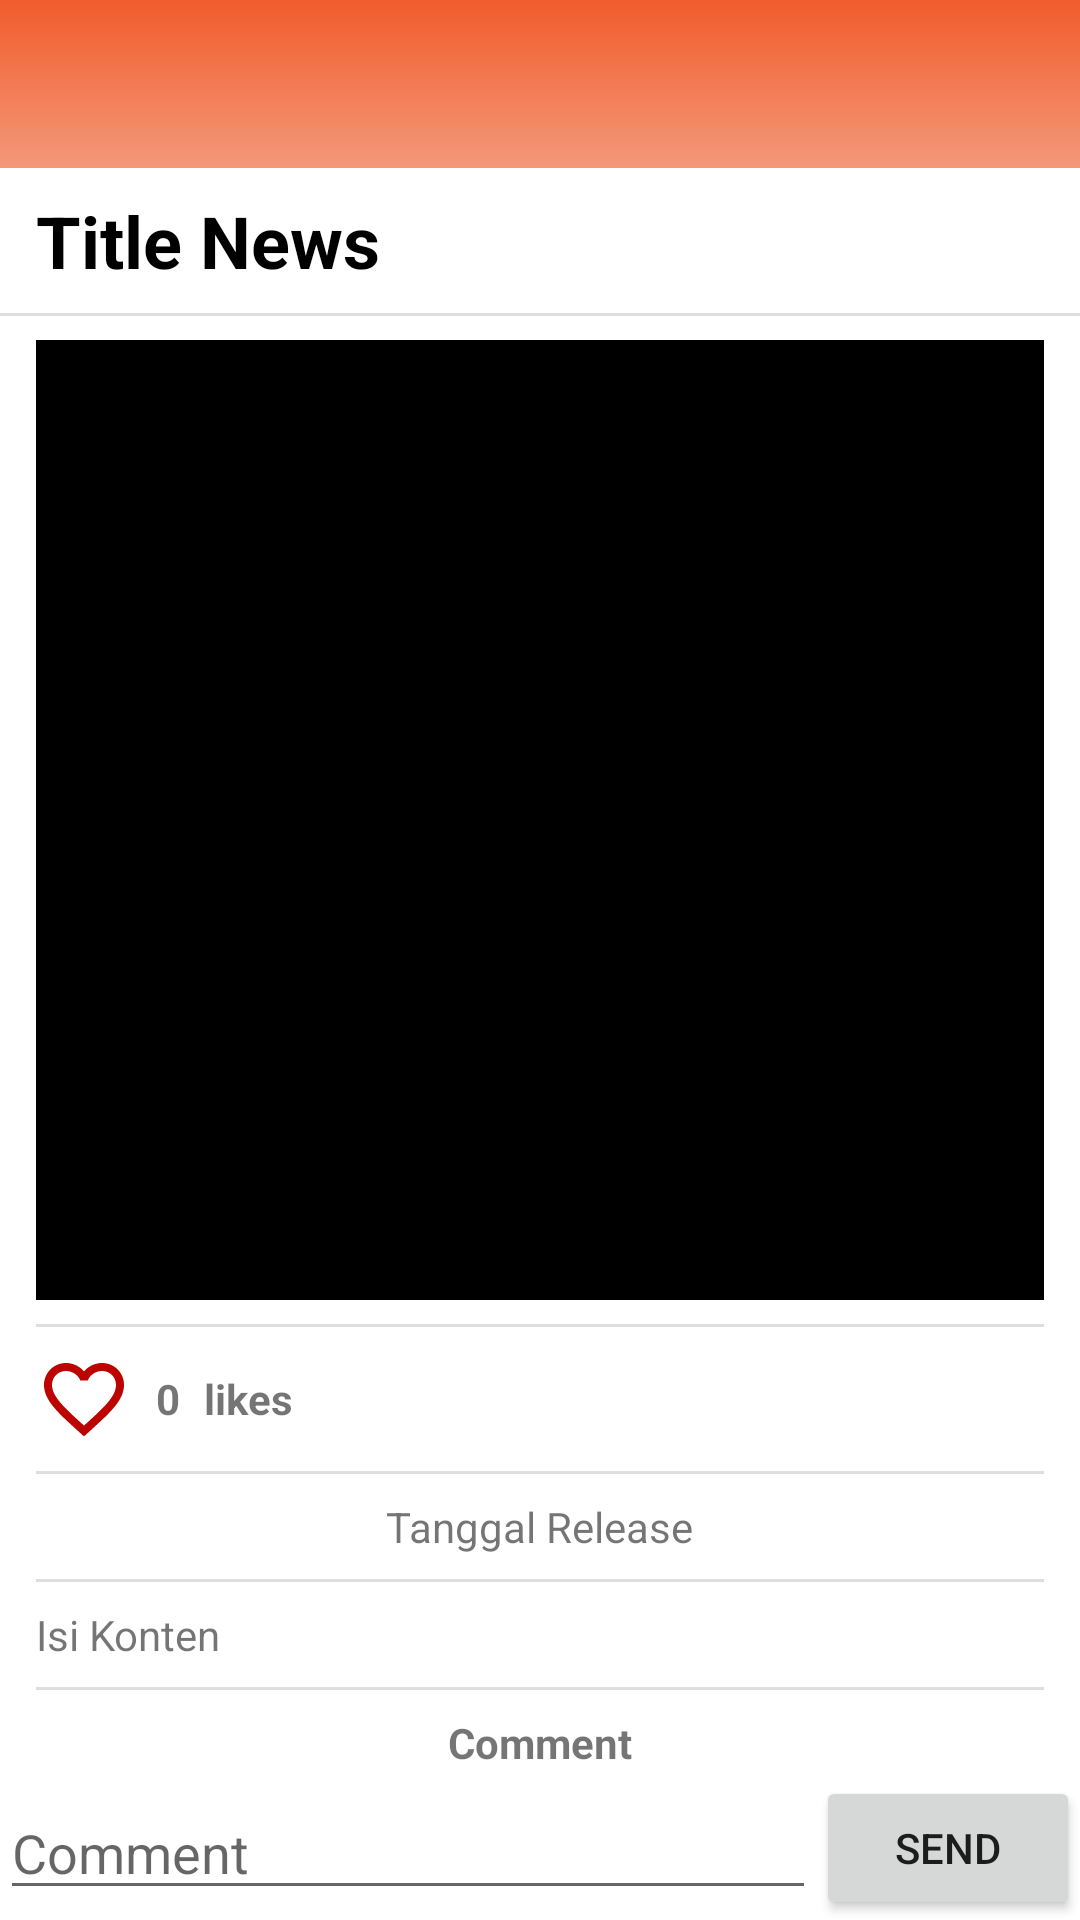

Icons on this 1080×1920 Android screen, each with the point to tap as (x,y):
favorite unclick: (84,1399)
